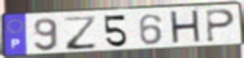5: (103, 15, 129, 48)
6: (137, 12, 165, 46)
9: (33, 17, 59, 52)
H: (168, 8, 204, 47)
P: (205, 8, 237, 44)
Z: (62, 14, 99, 51)
